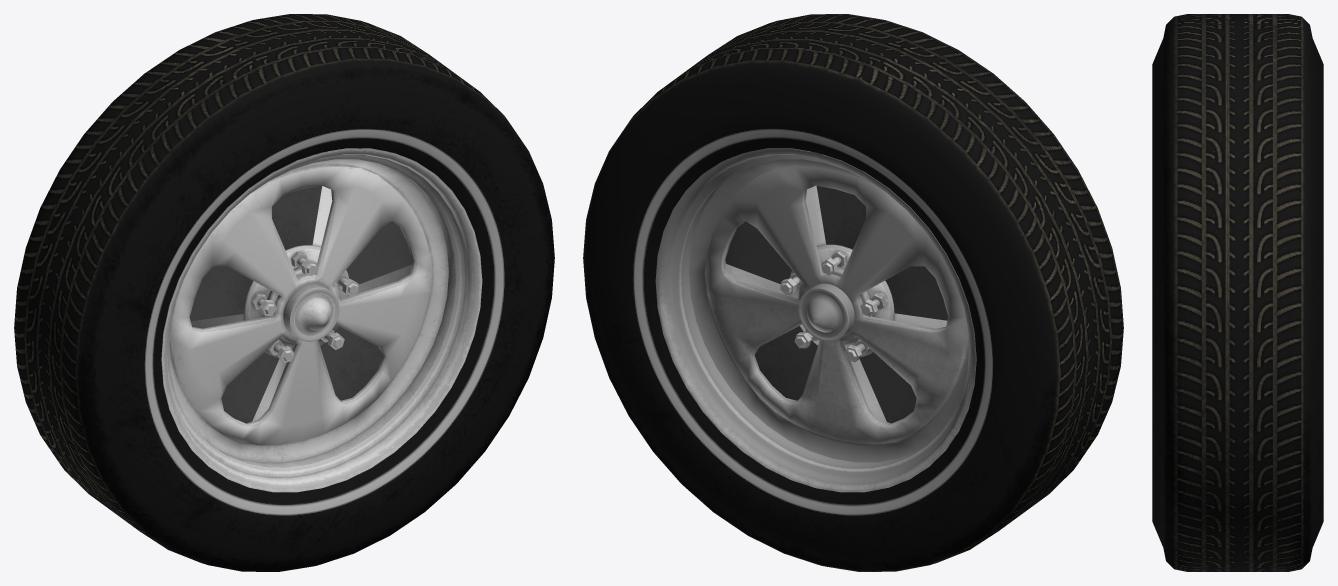
Rendered from wheel.obj.
3 views of the same model, side by side, from view 1: azimuth 30°, elevation 25°; view 2: azimuth 150°, elevation 25°; view 3: azimuth 270°, elevation 25° (orthographic).
Visible parts, largest first — view 1: wheel1_Wheel_0; view 2: wheel1_Wheel_0; view 3: wheel1_Wheel_0.
Part boxes in pixels (x1,y1,x2,y2): wheel1_Wheel_0: (14,14,554,571); wheel1_Wheel_0: (583,14,1123,571); wheel1_Wheel_0: (1152,14,1323,571).
Size of the model in its own units: 0.154 by 0.154 by 0.0472.
1 material, 1 textured.
